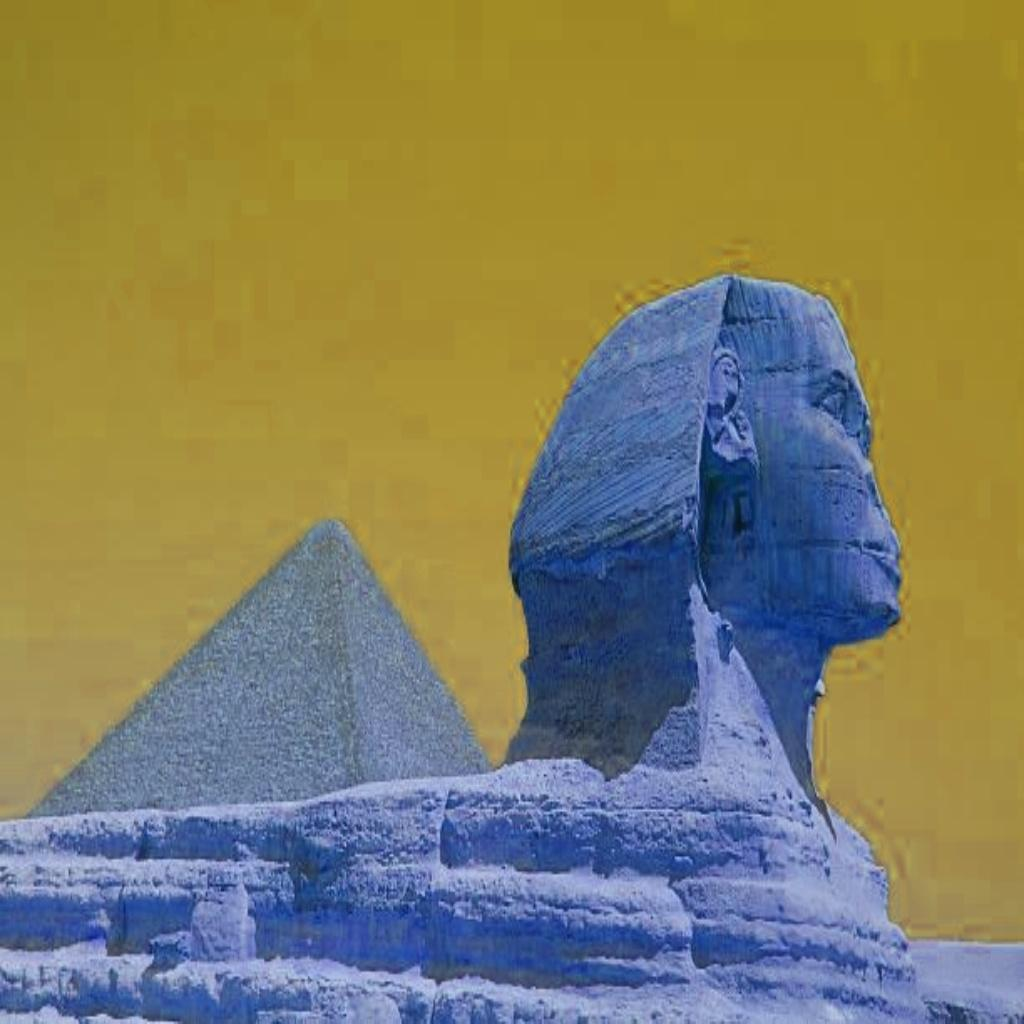Sphinx: (2, 267, 928, 1019), (498, 268, 904, 832)
